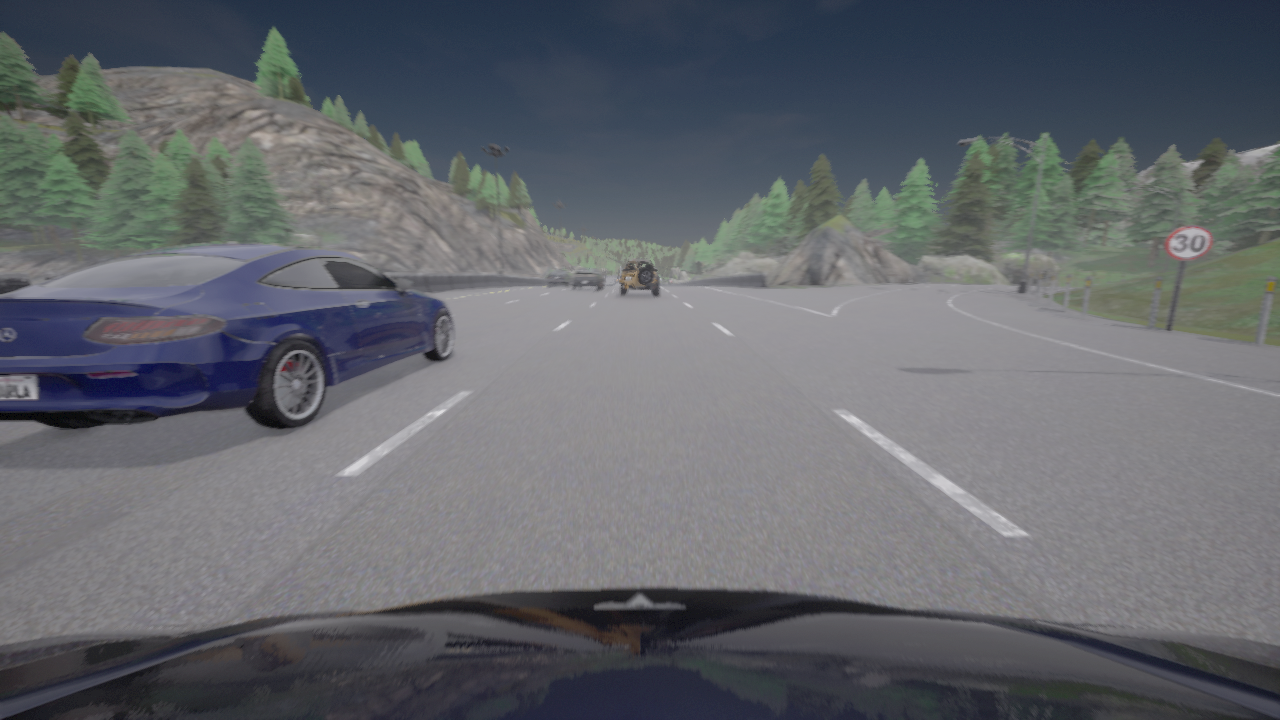cyclist: (0, 588, 1279, 719), (0, 243, 454, 429), (620, 259, 659, 296), (572, 268, 604, 290), (547, 271, 572, 286)
